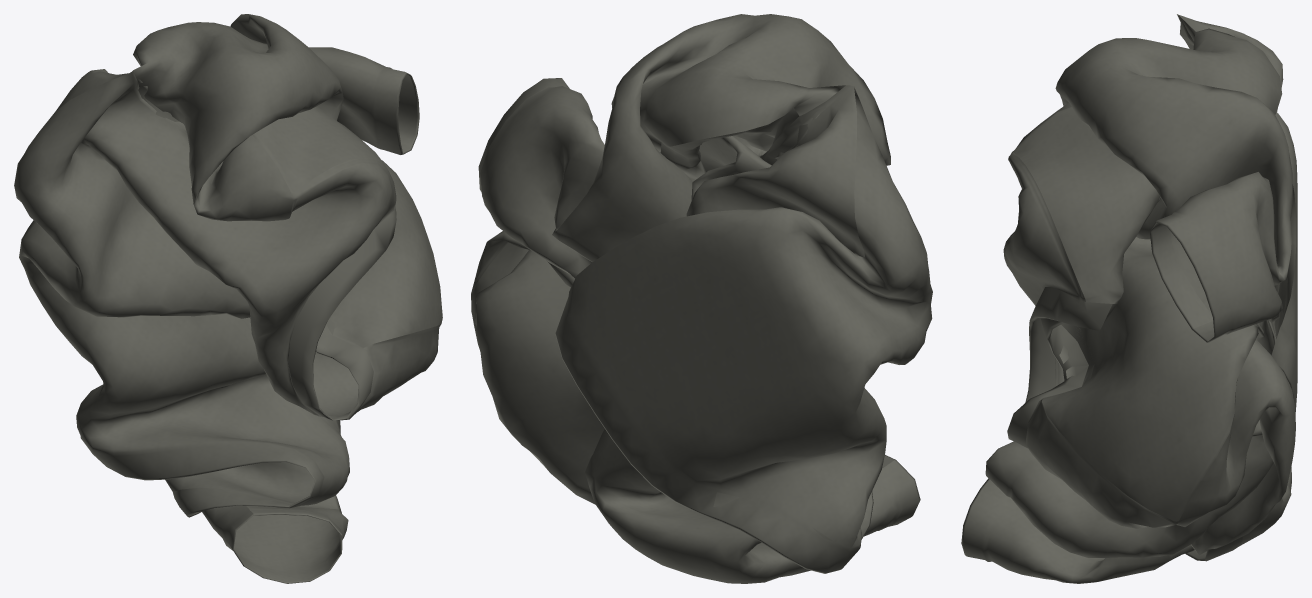
The model's file is cloth.obj.
3 views of the same model, side by side, from view 1: azimuth 30°, elevation 25°; view 2: azimuth 150°, elevation 25°; view 3: azimuth 270°, elevation 25° (orthographic). The views are drawn at different scales.
Visible parts, largest first — view 1: Garment; view 2: Garment; view 3: Garment.
Boxes of the visible parts, left/top/right/bottom form: Garment: left=14, top=14, right=442, bottom=583; Garment: left=471, top=14, right=932, bottom=583; Garment: left=961, top=14, right=1297, bottom=583.
Size of the model in its own units: 0.1648 by 0.1903 by 0.1121.
